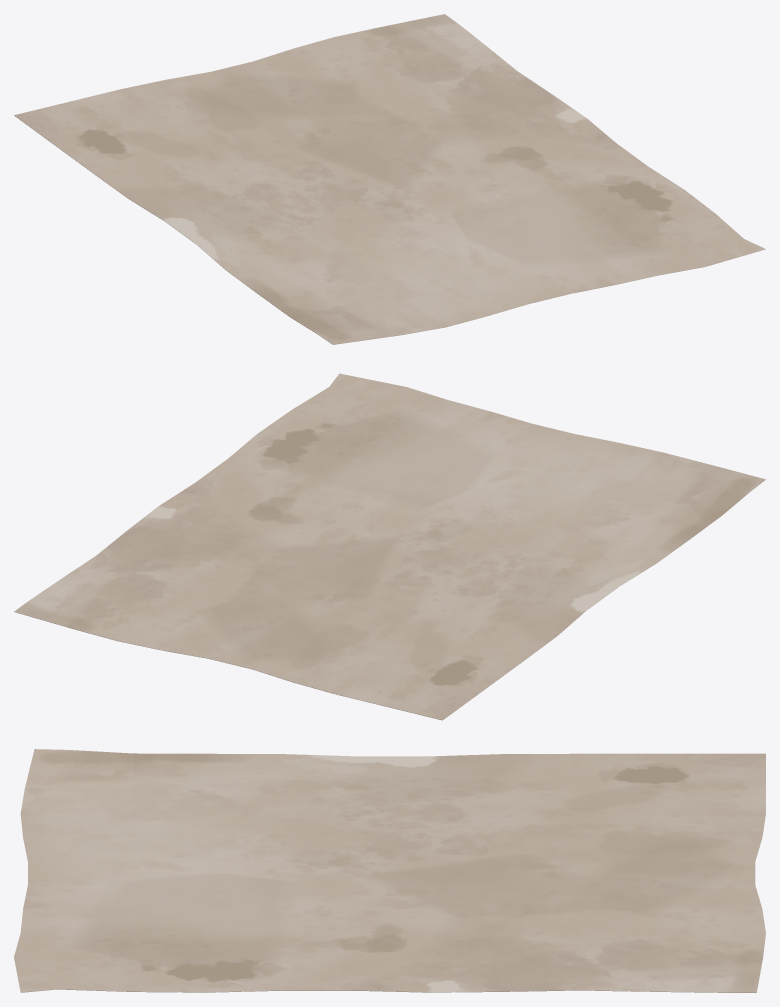
Rendered from paper.glb.
3 views of the same model, one above another, from view 1: azimuth 30°, elevation 25°; view 2: azimuth 150°, elevation 25°; view 3: azimuth 270°, elevation 25° (orthographic). The views are drawn at different scales.
Visible parts, largest first — view 1: HD2L_MOD_Paper; view 2: HD2L_MOD_Paper; view 3: HD2L_MOD_Paper.
Boxes of the visible parts, x1,y1,x2,y2 form: HD2L_MOD_Paper: (14, 14, 765, 344); HD2L_MOD_Paper: (14, 373, 765, 720); HD2L_MOD_Paper: (14, 749, 765, 992).
Bounding box in the file's own units: 0.21 × 0.00205 × 0.2795.
1 material, 1 textured.
